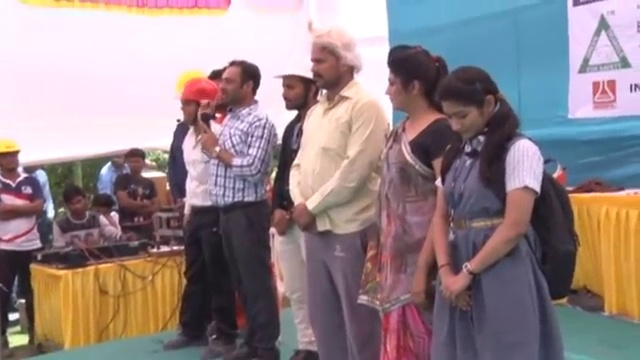helmet: (178, 76, 219, 105), (277, 51, 317, 80), (8, 139, 22, 154)
helmet_off: (438, 64, 512, 149), (381, 41, 443, 120), (301, 29, 367, 86), (211, 60, 260, 113), (61, 183, 88, 218), (90, 193, 115, 216), (125, 150, 146, 176), (110, 153, 126, 170)
helmet_on: (277, 52, 320, 106), (178, 76, 218, 126), (0, 139, 21, 177)
person: (420, 50, 579, 356), (291, 27, 388, 360), (368, 30, 452, 345), (197, 64, 279, 360), (162, 74, 237, 358), (271, 50, 322, 360), (0, 139, 48, 358), (50, 183, 138, 251), (113, 149, 157, 240), (96, 153, 130, 212)
